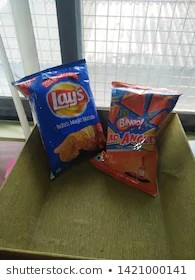lays-small: (14, 53, 98, 184)
